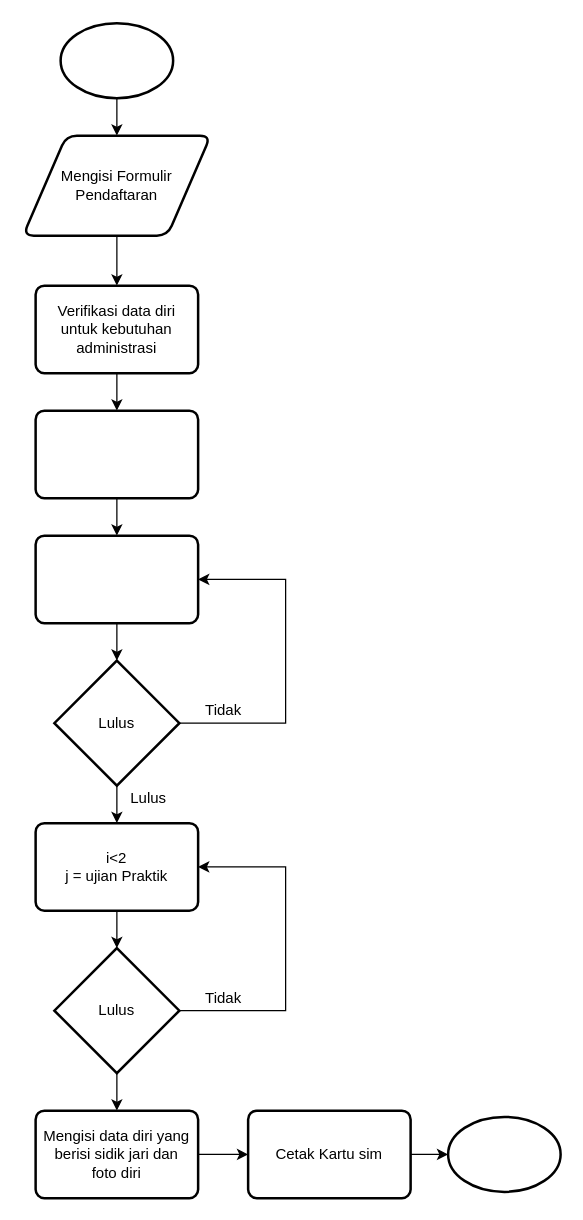
Image size: 583x1220. Some labels were removed from this diagram. The centre of each missing label's shape, as x and y in pixels:
"End" goes at point 503,1153.
"i<2 i = ujian teori" goes at point 116,579.
"Mengisi Formulir" goes at point 116,454.
"Start" goes at point 116,60.
